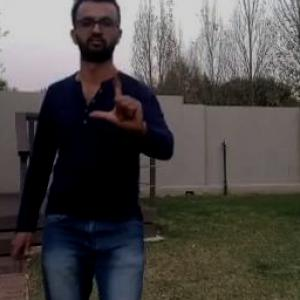land_hand: (88, 66, 152, 133)
